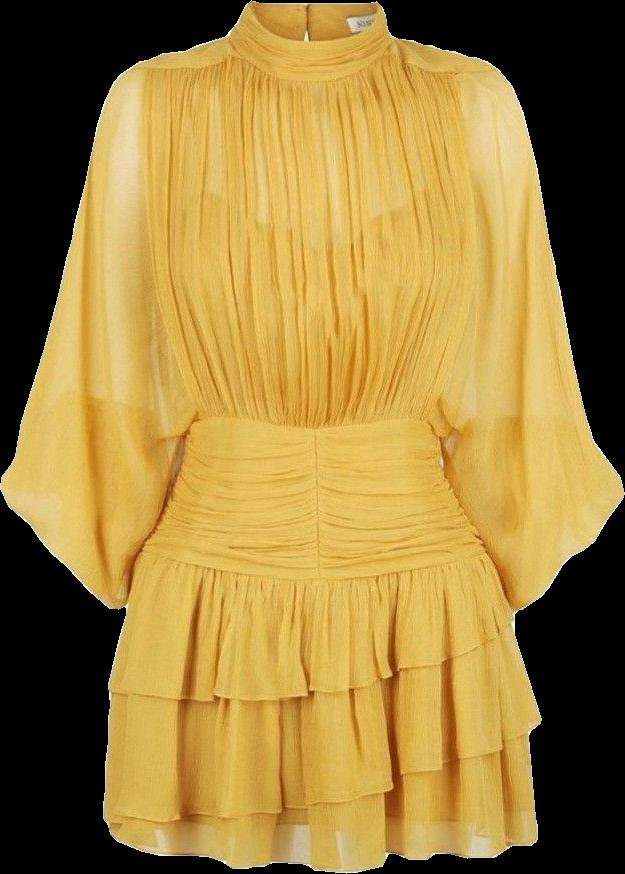Bodice: (137, 1, 478, 423)
Hemline: (102, 713, 543, 826), (105, 614, 516, 709), (105, 825, 543, 873)
Neckline: (221, 32, 401, 81), (245, 2, 385, 46)
Skirt: (103, 410, 541, 871)
Sleeve: (0, 56, 200, 608), (430, 52, 624, 614)
Sleeveline: (449, 48, 484, 249), (132, 56, 153, 259)
Waistline: (140, 541, 487, 585), (196, 401, 435, 429)
